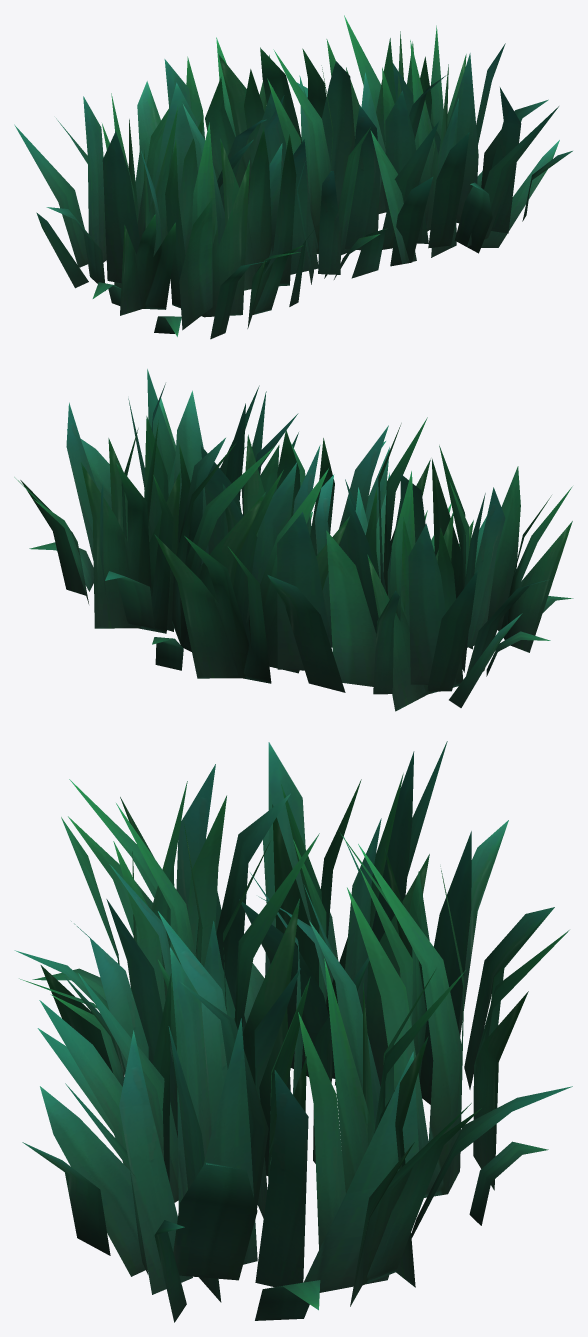
Rendered from pref_sm_beach_techgrass_alpha_04_lv1.fbx.
The picture shows the model from 3 angles, top to bottom: view 1: azimuth 30°, elevation 25°; view 2: azimuth 150°, elevation 25°; view 3: azimuth 270°, elevation 25°; orthographic projection. The views are drawn at different scales.
Parts seen in each view (by area): view 1: pref_sm_beach_techgrass_alpha_04_lv1; view 2: pref_sm_beach_techgrass_alpha_04_lv1; view 3: pref_sm_beach_techgrass_alpha_04_lv1.
Boxes of the visible parts, bbox=[...] form: pref_sm_beach_techgrass_alpha_04_lv1: bbox=[14, 15, 572, 339]; pref_sm_beach_techgrass_alpha_04_lv1: bbox=[14, 369, 573, 711]; pref_sm_beach_techgrass_alpha_04_lv1: bbox=[14, 741, 572, 1322].
Size of the model in its own units: 4.65 by 2.03 by 2.84.
